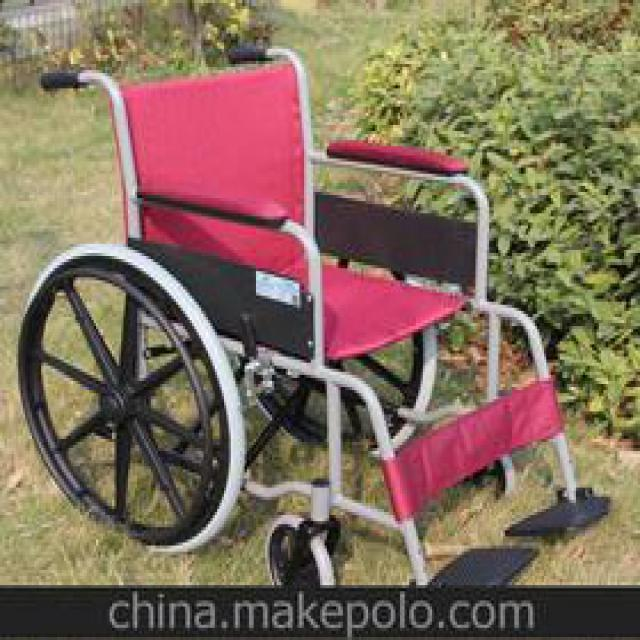wheelchair: (18, 42, 610, 580)
